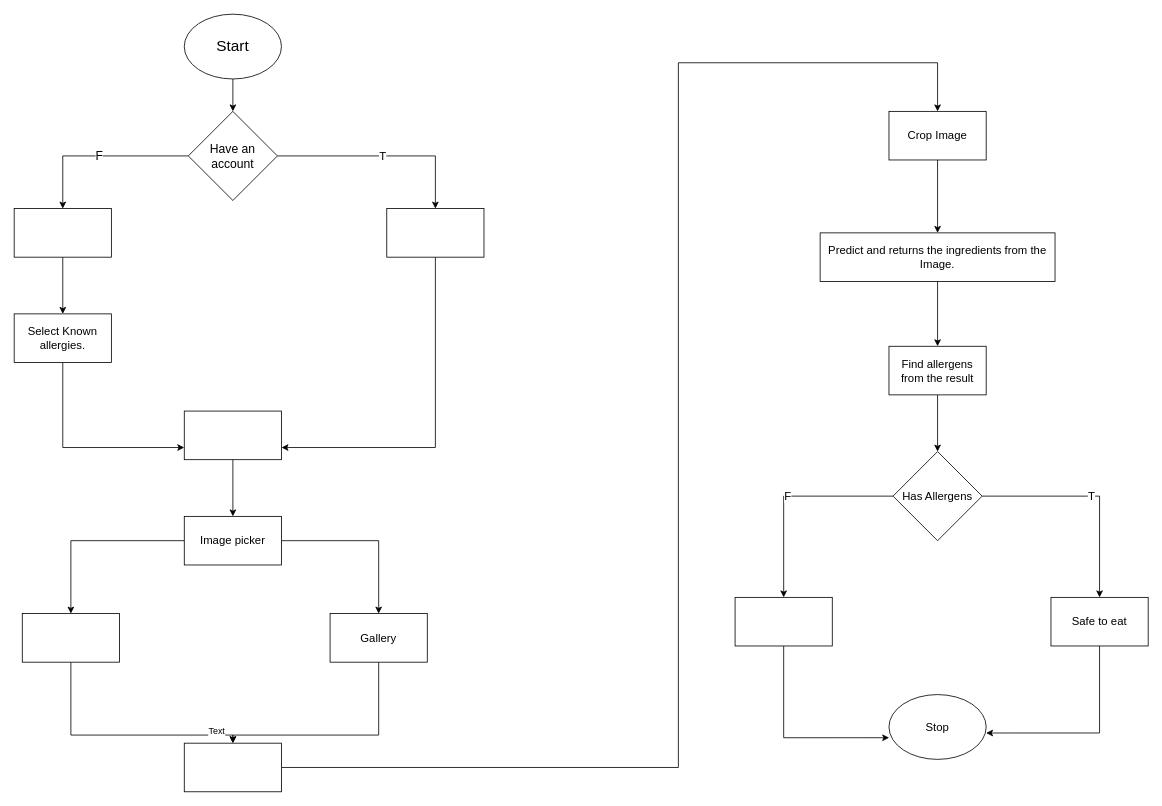
This 1162x806 diagram has some shape labels left out. The shapes that lost their labels are listed below. From the top down, each one's box as (x1, y1, x2, y2) in pixels, then its label:
(13, 208, 111, 257): Create new account
(386, 208, 484, 257): Login
(183, 410, 281, 460): Main Interface
(21, 613, 119, 662): Camera
(734, 597, 832, 646): Not safe to eat
(183, 742, 281, 792): Select Image
